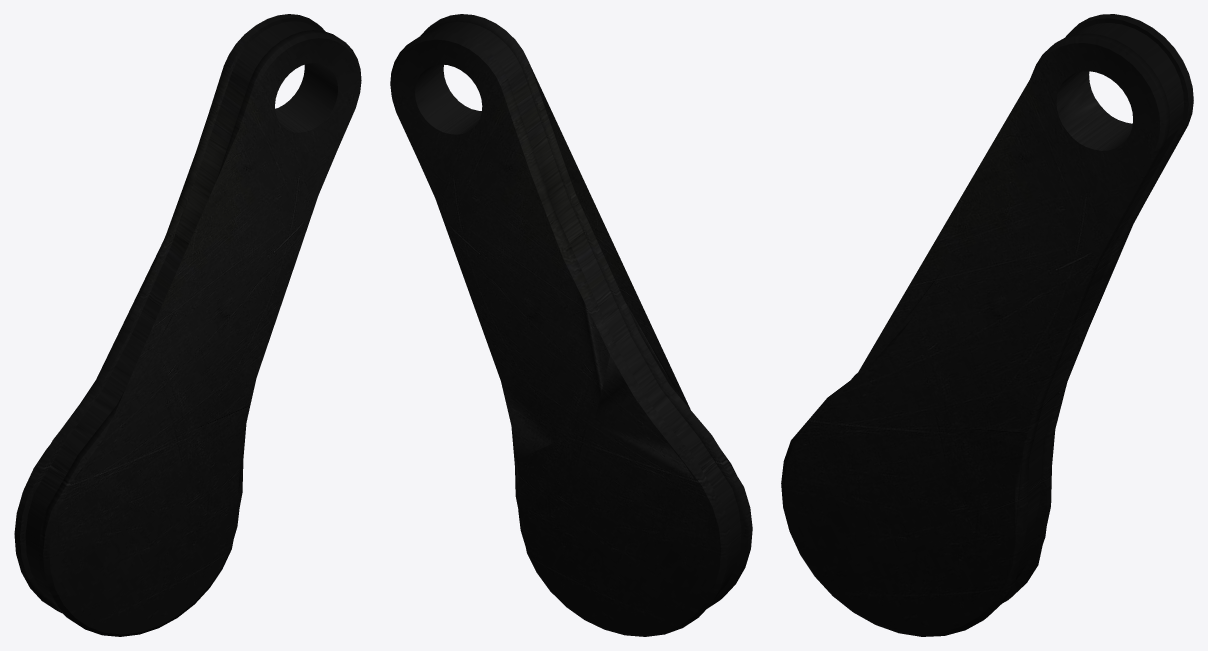
File: conRod3.obj
3 views of the same model, side by side, from view 1: azimuth 30°, elevation 25°; view 2: azimuth 150°, elevation 25°; view 3: azimuth 330°, elevation 25° (orthographic). The views are drawn at different scales.
Visible parts, largest first — view 1: conRod3_Connecting_Rod_Circle.000; view 2: conRod3_Connecting_Rod_Circle.000; view 3: conRod3_Connecting_Rod_Circle.000.
Boxes of the visible parts, x1,y1,x2,y2 form: conRod3_Connecting_Rod_Circle.000: [14, 14, 361, 636]; conRod3_Connecting_Rod_Circle.000: [390, 14, 752, 636]; conRod3_Connecting_Rod_Circle.000: [781, 14, 1193, 636].
Bounding box in the file's own units: 3.35 × 5.42 × 0.6857.
Materials: 1 (1 with a texture image).
